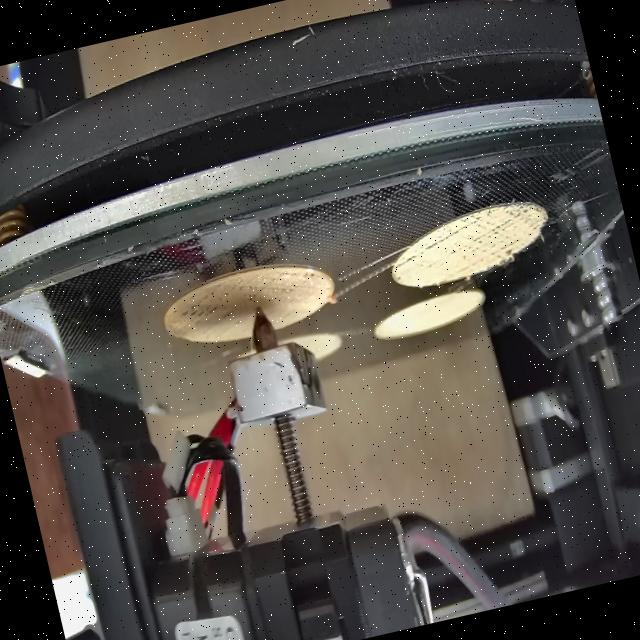under_extrusion: (167, 262, 321, 328), (419, 196, 546, 270), (392, 246, 422, 272)
